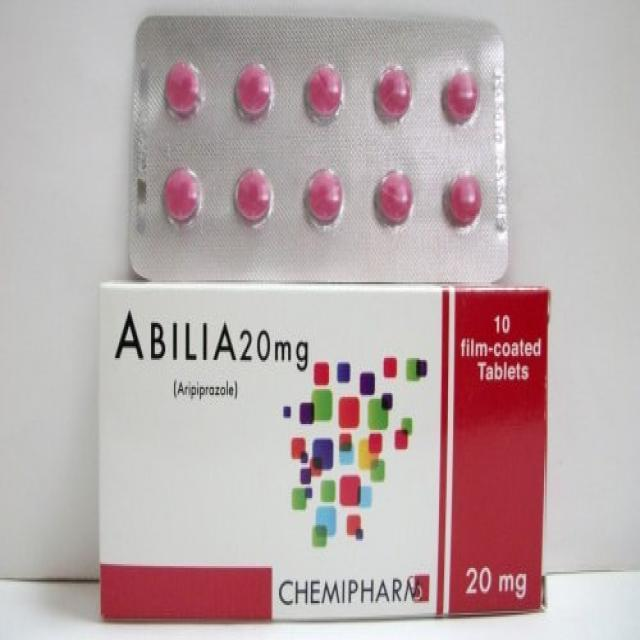drug-name: (112, 310, 238, 360)
